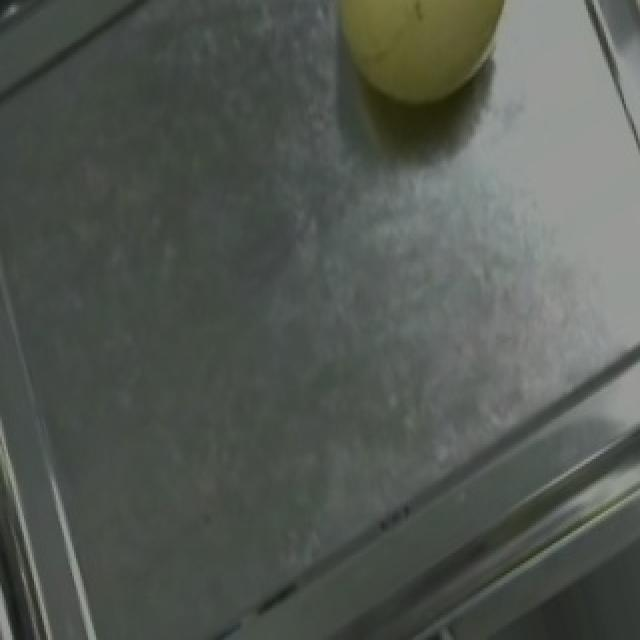Fruit: (290, 0, 544, 139)
